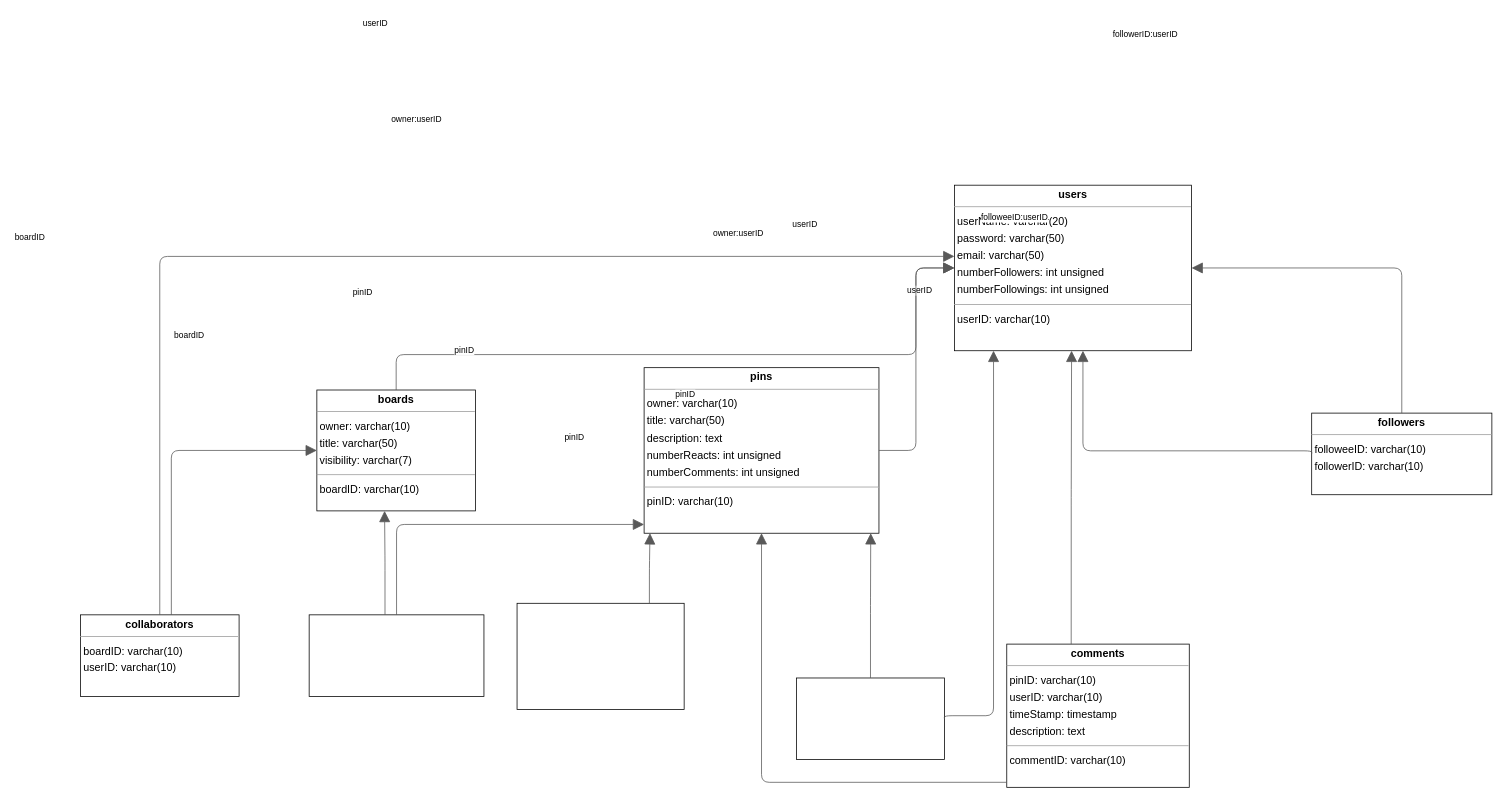
This 1505x807 diagram has some shape labels left out. Each missing label, with the centre of its shape:
belongsToBoard pinID: varchar(10) boardID: varchar(10): (x=396, y=655)
pictures pinID: varchar(10) url: varchar(50) pictureID: varchar(10): (x=600, y=656)
reacts pinID: varchar(10) userID: varchar(10): (x=870, y=718)
